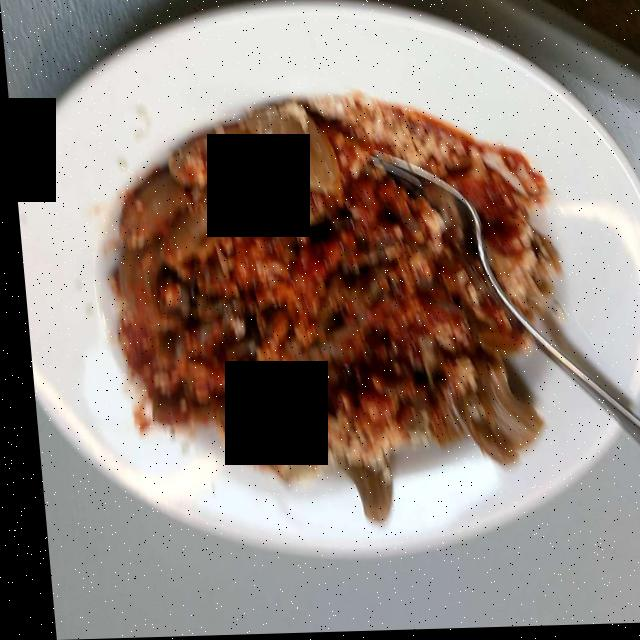parmesan: (305, 99, 446, 171)
tomato-sauce: (241, 185, 449, 427)
